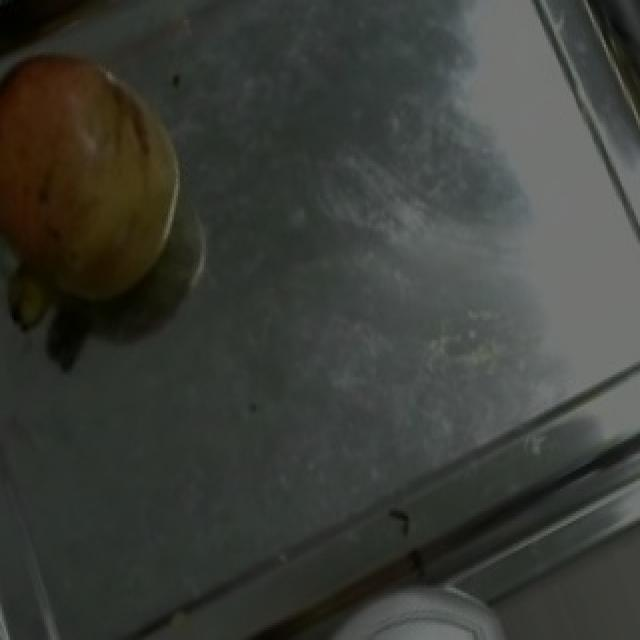fruit: (0, 22, 216, 310)
